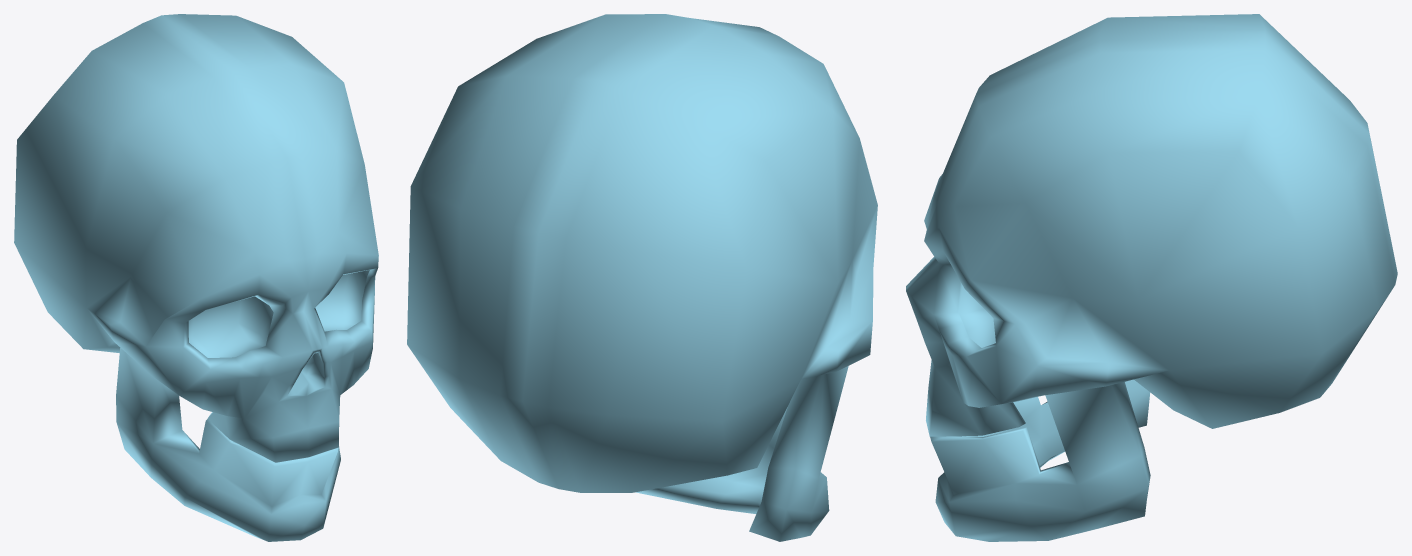
The model's file is nobone.gltf.
3 renders of one model, left to right at view 1: azimuth 30°, elevation 25°; view 2: azimuth 150°, elevation 25°; view 3: azimuth 270°, elevation 25°, orthographic. The views are drawn at different scales.
Visible parts, largest first — view 1: Plane (Copy); view 2: Plane (Copy); view 3: Plane (Copy).
Part boxes in pixels (left/top/right/bottom): Plane (Copy): left=14, top=14, right=378, bottom=541; Plane (Copy): left=407, top=14, right=877, bottom=541; Plane (Copy): left=906, top=14, right=1397, bottom=541.
Bounding box in the file's own units: 1.66 × 2.59 × 2.34.
